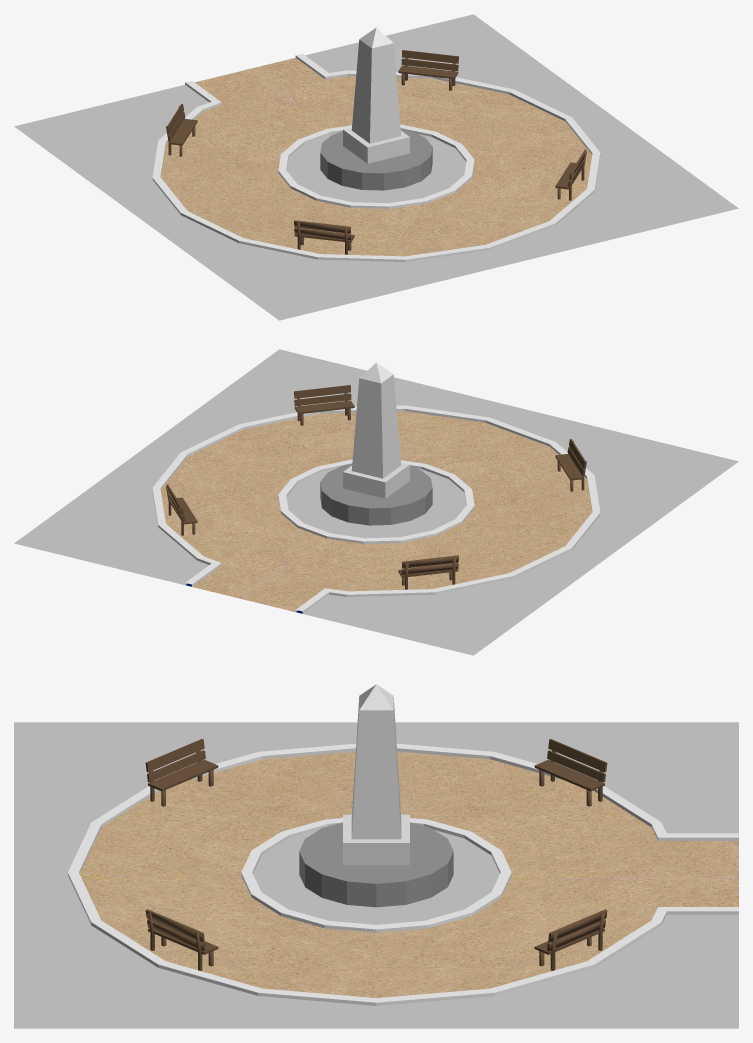
The model's file is Park-Impasse.fbx.
The picture shows the model from 3 angles, top to bottom: view 1: azimuth 30°, elevation 25°; view 2: azimuth 150°, elevation 25°; view 3: azimuth 270°, elevation 25°; orthographic projection. The views are drawn at different scales.
Visible parts, largest first — view 1: _T_Park-Impasse_BG, BenchImpasse_T_Colors; view 2: _T_Park-Impasse_BG, BenchImpasse_T_Colors; view 3: _T_Park-Impasse_BG, BenchImpasse_T_Colors.
Part boxes in pixels (box(x1,y1,x2,y2)): _T_Park-Impasse_BG: box(14, 14, 738, 320); BenchImpasse_T_Colors: box(166, 27, 586, 254); _T_Park-Impasse_BG: box(14, 349, 738, 655); BenchImpasse_T_Colors: box(166, 362, 586, 589); _T_Park-Impasse_BG: box(14, 722, 738, 1028); BenchImpasse_T_Colors: box(145, 684, 607, 970).
Bounding box in the file's own units: 2000 × 583 × 2000.
